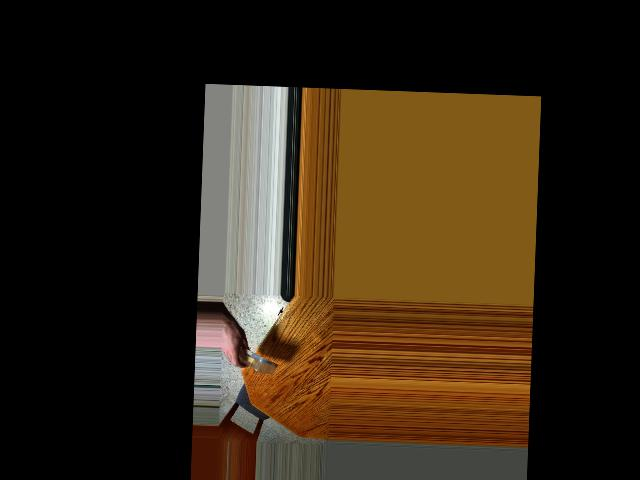cheese: (232, 348, 280, 374)
